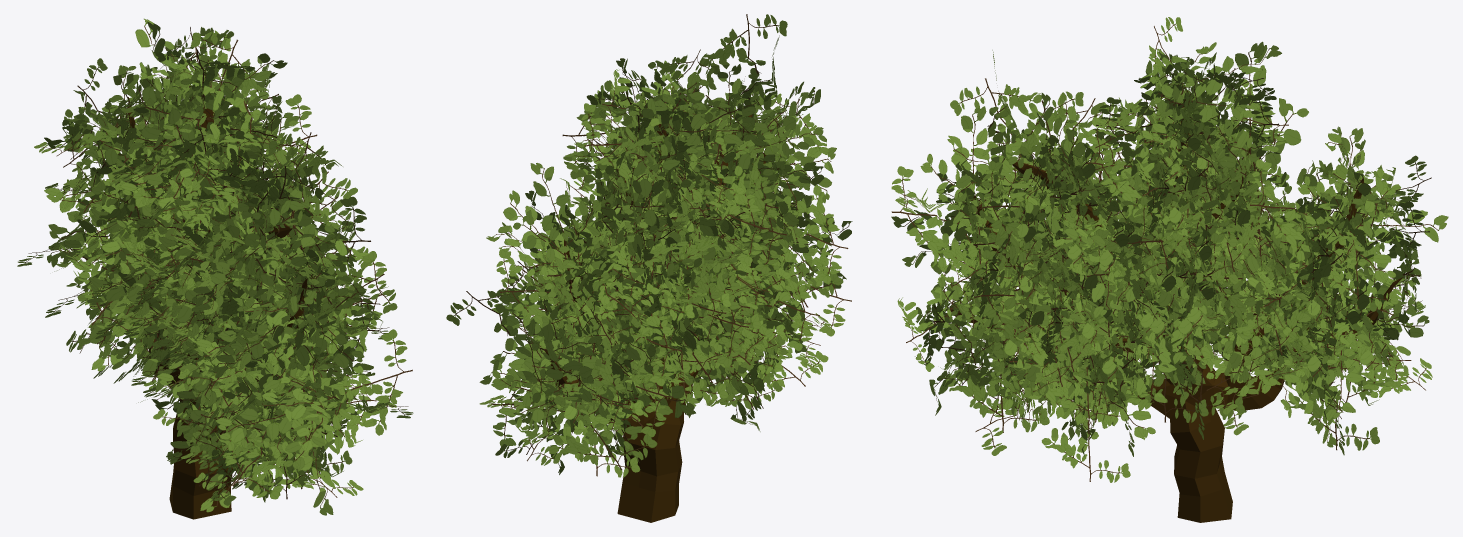
The model's file is Tree1.fbx.
The picture shows the model from 3 angles, left to right: view 1: azimuth 30°, elevation 25°; view 2: azimuth 150°, elevation 25°; view 3: azimuth 270°, elevation 25°; orthographic projection. The views are drawn at different scales.
Parts seen in each view (by area): view 1: Cube.002|Tree Branch|Dupli|289, Cube.002, Cube.002|Tree Branch|Dupli|274, Cube.002|Tree Branch|Dupli|175, Cube.002|Tree Branch|Dupli|226, Cube.002|Tree Branch|Dupli|286, Cube.002|Tree Branch|Dupli|225, Cube.002|Tree Branch|Dupli|288, Cube.002|Tree Branch|Dupli|265, Cube.002|Tree Branch|Dupli|231, Cube.002|Tree Branch|Dupli|180, Cube.002|Tree Branch|Dupli|272 (+96 smaller); view 2: Cube.002, Cube.002|Tree Branch|Dupli|67, Cube.002|Tree Branch|Dupli|107, Cube.002|Tree Branch|Dupli|64, Cube.002|Tree Branch|Dupli|181, Cube.002|Tree Branch|Dupli|108, Cube.002|Tree Branch|Dupli|274, Cube.002|Tree Branch|Dupli|219, Cube.002|Tree Branch|Dupli|65, Cube.002|Tree Branch|Dupli|109, Cube.002|Tree Branch|Dupli|110, Cube.002|Tree Branch|Dupli|53 (+80 smaller); view 3: Cube.002, Cube.002|Tree Branch|Dupli|220, Cube.002|Tree Branch|Dupli|100, Cube.002|Tree Branch|Dupli|175, Cube.002|Tree Branch|Dupli|232, Cube.002|Tree Branch|Dupli|104, Cube.002|Tree Branch|Dupli|284, Cube.002|Tree Branch|Dupli|272, Cube.002|Tree Branch|Dupli|228, Cube.002|Tree Branch|Dupli|178, Cube.002|Tree Branch|Dupli|268, Cube.002|Tree Branch|Dupli|59 (+96 smaller).
Part boxes in pixels (box(x1,y1,x2,y2)): Cube.002|Tree Branch|Dupli|289: box(215, 329, 412, 471); Cube.002: box(117, 94, 320, 519); Cube.002|Tree Branch|Dupli|274: box(236, 132, 342, 325); Cube.002|Tree Branch|Dupli|175: box(135, 18, 310, 155); Cube.002|Tree Branch|Dupli|226: box(213, 260, 397, 378); Cube.002|Tree Branch|Dupli|286: box(252, 365, 376, 452); Cube.002|Tree Branch|Dupli|225: box(195, 251, 386, 392); Cube.002|Tree Branch|Dupli|288: box(261, 337, 349, 515); Cube.002|Tree Branch|Dupli|265: box(158, 196, 370, 288); Cube.002|Tree Branch|Dupli|231: box(239, 222, 364, 370); Cube.002|Tree Branch|Dupli|180: box(143, 31, 269, 222); Cube.002|Tree Branch|Dupli|272: box(226, 166, 330, 293); Cube.002: box(544, 114, 771, 522); Cube.002|Tree Branch|Dupli|67: box(446, 285, 614, 418); Cube.002|Tree Branch|Dupli|107: box(513, 163, 611, 331); Cube.002|Tree Branch|Dupli|64: box(491, 302, 657, 469); Cube.002|Tree Branch|Dupli|181: box(562, 72, 766, 186); Cube.002|Tree Branch|Dupli|108: box(503, 190, 659, 322); Cube.002|Tree Branch|Dupli|274: box(699, 14, 809, 212); Cube.002|Tree Branch|Dupli|219: box(571, 136, 688, 241); Cube.002|Tree Branch|Dupli|65: box(479, 336, 630, 439); Cube.002|Tree Branch|Dupli|109: box(486, 220, 645, 301); Cube.002|Tree Branch|Dupli|110: box(525, 190, 602, 337); Cube.002|Tree Branch|Dupli|53: box(492, 345, 695, 455); Cube.002: box(951, 90, 1403, 522); Cube.002|Tree Branch|Dupli|220: box(1191, 41, 1308, 255); Cube.002|Tree Branch|Dupli|100: box(1249, 159, 1448, 283); Cube.002|Tree Branch|Dupli|175: box(1095, 42, 1281, 172); Cube.002|Tree Branch|Dupli|232: box(920, 106, 1021, 287); Cube.002|Tree Branch|Dupli|104: box(1298, 128, 1400, 309); Cube.002|Tree Branch|Dupli|284: box(931, 270, 1049, 432); Cube.002|Tree Branch|Dupli|272: box(950, 78, 1080, 238); Cube.002|Tree Branch|Dupli|228: box(891, 166, 1081, 287); Cube.002|Tree Branch|Dupli|178: box(1078, 76, 1288, 158); Cube.002|Tree Branch|Dupli|268: box(985, 98, 1120, 259); Cube.002|Tree Branch|Dupli|59: box(1283, 270, 1402, 421).
Size of the model in its own units: 426 by 839 by 903.
